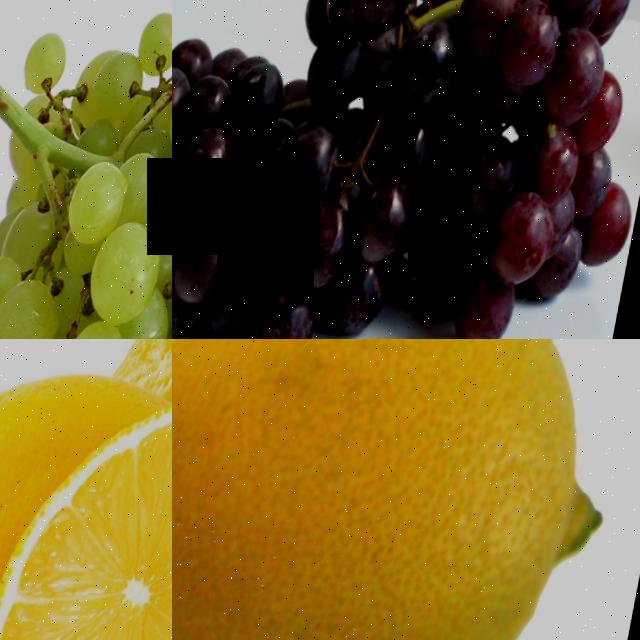grapes: (252, 0, 640, 339), (172, 13, 364, 339), (0, 0, 172, 339)
lemon: (172, 339, 640, 640), (0, 439, 172, 640), (0, 350, 49, 640)
